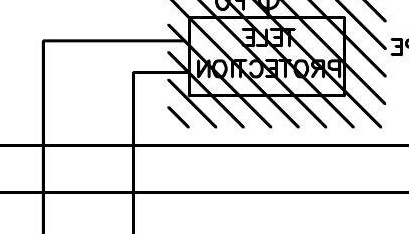tele_protection: (185, 13, 349, 100)
